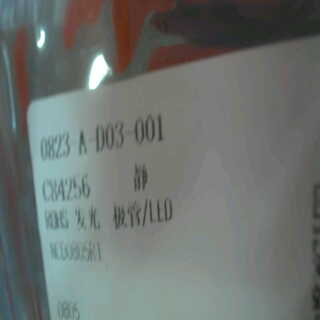LED: (71, 191, 194, 237)
